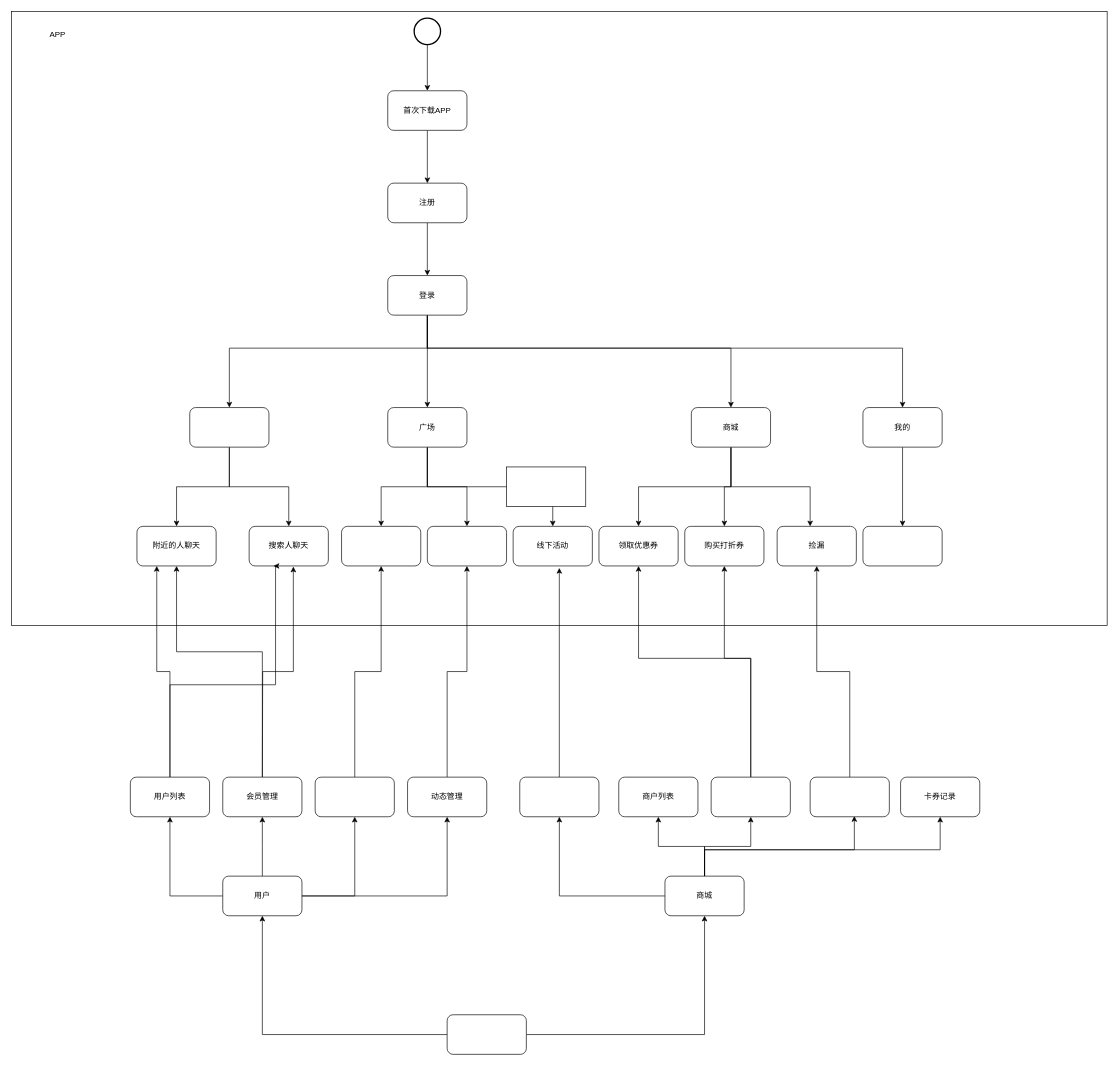
Some shapes in this 1119 by 1066 pixel diagram are drawn without their labels. Each missing label, with the centre of its shape:
卡券管理: point (750, 796)
发布动态: point (467, 546)
发布节目: point (381, 546)
后台管理: point (486, 1034)
拍卖管理: point (849, 796)
活动管理: point (559, 796)
聊天: point (229, 427)
节目列表: point (354, 796)
购买会员: point (902, 546)
